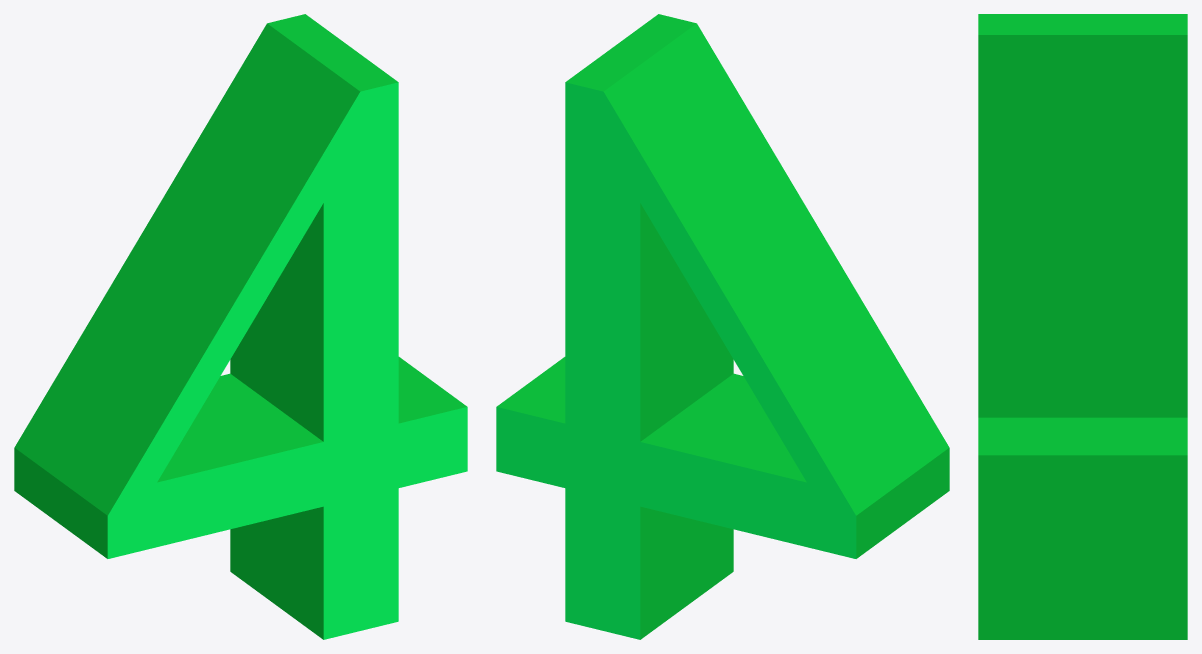
The model's file is b45d3a75-0c21-448e-ae09-27750faad6f9.glb.
3 views of the same model, side by side, from view 1: azimuth 30°, elevation 25°; view 2: azimuth 150°, elevation 25°; view 3: azimuth 270°, elevation 25° (orthographic). The views are drawn at different scales.
Visible parts, largest first — view 1: 4_Soul_Green; view 2: 4_Soul_Green; view 3: 4_Soul_Green.
Part boxes in pixels (x1,y1,x2,y2): 4_Soul_Green: (14, 14, 467, 639); 4_Soul_Green: (496, 14, 949, 639); 4_Soul_Green: (978, 14, 1187, 639).
Size of what is drawn, in the model's own units: 0.1002 by 0.1435 by 0.045.
2 materials, 2 textured.
